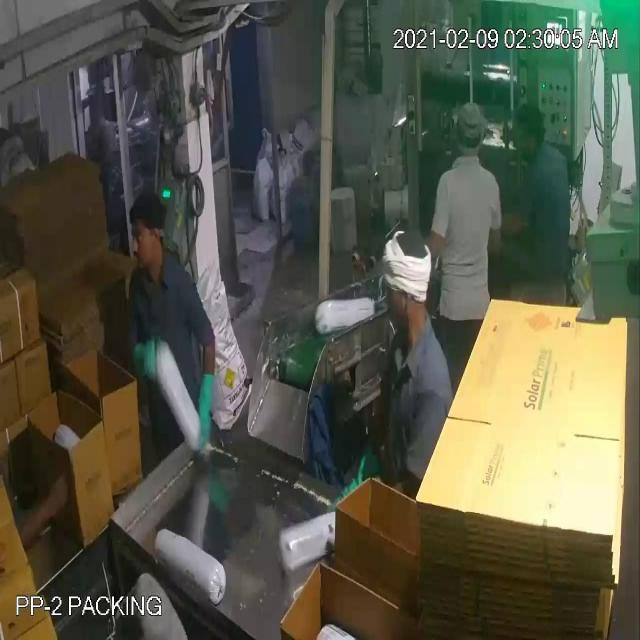No_Gloves: (35, 60, 208, 508)
